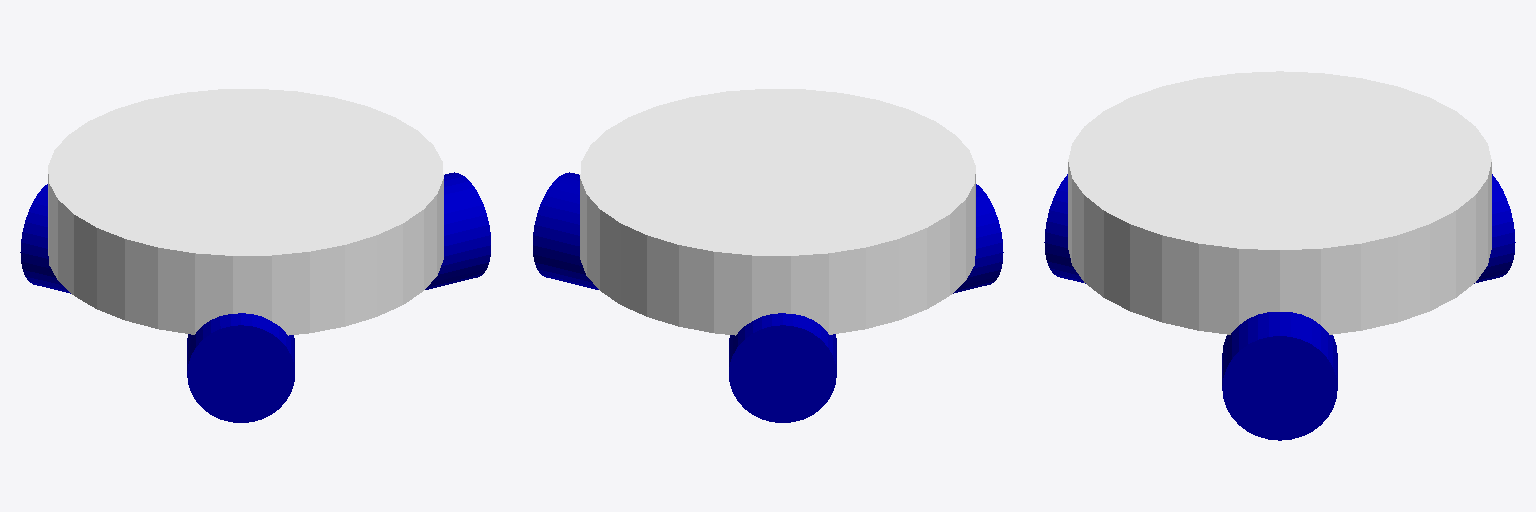
robot.urdf — wheeltec_robot:
<?xml version="1.0" ?>
<robot name="wheeltec_robot">

    <link name="base_link">
        <visual>
            <origin xyz=" 0 0 0.07" rpy="0 0 0" />
            <geometry>
                <cylinder length="0.05" radius="0.11"/>
            </geometry>
            <material name="white">
                <color rgba="1 1 1 1"/>
            </material>
        </visual>
    </link>   

    <link name="front_wheel">
        <visual>
            <origin rpy="0 1.57 0" xyz="0 0 0.0"/>
            <geometry>
                <cylinder length="0.04" radius="0.03"/>
            </geometry>
            <material name="black">
                <color rgba="0 0 0.8 1"/>
            </material>
        </visual>
    </link>

    <link name="left_wheel">
        <visual>
            <origin rpy="0 1.57 -1.05" xyz="0 0 0.0"/>
            <geometry>
                <cylinder length="0.04" radius="0.03"/>
            </geometry>
            <material name="blue">
                <color rgba="0 0 0.8 1"/>
            </material>
        </visual>
    </link>

    <link name="right_wheel">
        <visual>
            <origin rpy="0 1.57 1.05" xyz="0 0 0.0"/>
            <geometry>
                <cylinder length="0.04" radius="0.03"/>
            </geometry>
            <material name="blue">
                <color rgba="0 0 0.8 1"/>
            </material>
        </visual>
    </link>

    <joint name="base_to_front_wheel" type="fixed">
        <parent link="base_link"/>
        <child link="front_wheel"/>
        <origin rpy="0 0 0" xyz="0.12 0 0.03"/>
    </joint>

    <joint name="base_to_left_wheel" type="fixed">
        <parent link="base_link"/>
        <child link="left_wheel"/>
        <origin rpy="0 0 0" xyz="-0.055 0.09 0.03"/>
    </joint>

    <joint name="base_to_right_wheel" type="fixed">
        <parent link="base_link"/>
        <child link="right_wheel"/>
        <origin rpy="0 0 0" xyz="-0.055 -0.09 0.03"/>
    </joint>

    </robot>

--- Facts derived from the render (not from the file) ---
Views: 3 orthographic renders of the robot side by side, from view 1: azimuth 30°, elevation 25°; view 2: azimuth 150°, elevation 25°; view 3: azimuth 270°, elevation 25°.
Robot: wheeltec_robot — 4 links, 3 joints (3 fixed); root link base_link; default pose: every joint at zero.
Visible links, largest first — view 1: base_link, right_wheel, front_wheel, left_wheel; view 2: base_link, left_wheel, front_wheel, right_wheel; view 3: base_link, front_wheel, left_wheel, right_wheel.
Link boxes in pixels (x1,y1,x2,y2): base_link: (48, 89, 443, 335); right_wheel: (187, 313, 294, 422); front_wheel: (425, 172, 490, 289); left_wheel: (20, 184, 70, 293); base_link: (580, 89, 975, 335); left_wheel: (729, 313, 836, 422); front_wheel: (533, 172, 598, 289); right_wheel: (953, 184, 1003, 293); base_link: (1068, 71, 1491, 334); front_wheel: (1222, 312, 1337, 440); left_wheel: (1474, 174, 1515, 283); right_wheel: (1044, 174, 1085, 283).
Size in the robot's own frame: 0.25 by 0.2446 by 0.095 metres.
Geometry: primitives only (box / cylinder / sphere), no mesh files.
